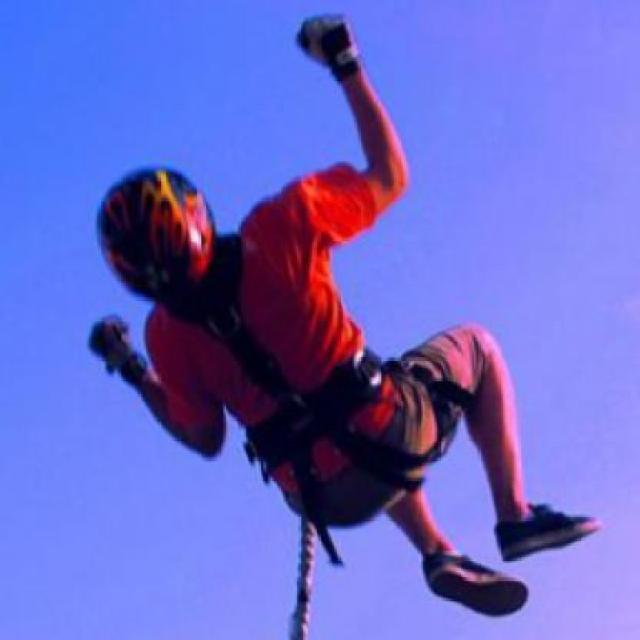fall: (82, 14, 607, 621)
